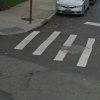Crosswalk: (17, 23, 100, 77)
